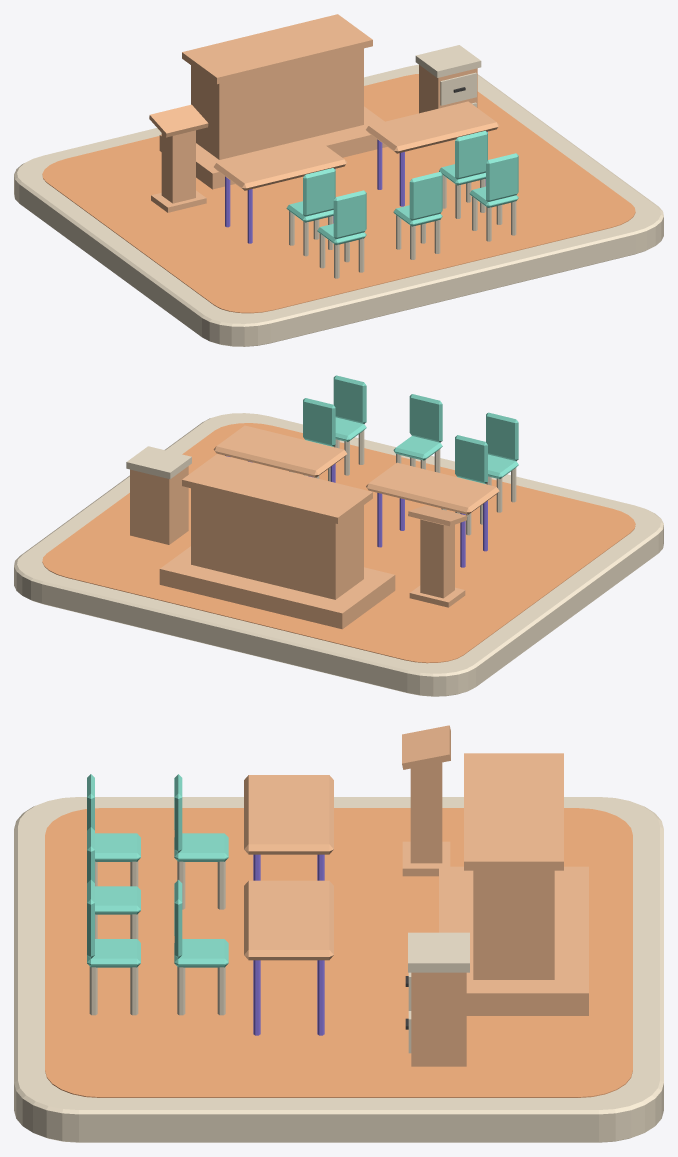
File: room.fbx
The picture shows the model from 3 angles, top to bottom: view 1: azimuth 30°, elevation 25°; view 2: azimuth 150°, elevation 25°; view 3: azimuth 270°, elevation 25°; orthographic projection. The views are drawn at different scales.
Parts seen in each view (by area): view 1: COM-02 Floor Surface, COM-01 Rounded Base Direct, Bench, Top, Rounded table top.001, Rounded table top, Platform, Body, Backrest.002, Backrest.003, Top.001, Backrest.004 (+6 smaller); view 2: COM-02 Floor Surface, COM-01 Rounded Base Direct, Bench, Platform, Top, Body.001, Rounded table top.001, Rounded table top, Body, Backrest.003, Backrest.004, Top.001 (+8 smaller); view 3: COM-02 Floor Surface, COM-01 Rounded Base Direct, Top, Platform, Bench, Rounded table top.001, Rounded table top, Body.001, Body, Top.001, Reading top, Seat.001 (+8 smaller).
Part boxes in pixels (x1,y1,x2,y2): COM-02 Floor Surface: (42, 74, 635, 313); COM-01 Rounded Base Direct: (14, 64, 663, 346); Bench: (191, 48, 363, 159); Top: (182, 14, 372, 84); Rounded table top.001: (366, 101, 499, 153); Rounded table top: (214, 138, 347, 190); Platform: (159, 106, 387, 189); Body: (161, 130, 195, 203); Backrest.002: (333, 190, 366, 239); Backrest.003: (409, 172, 442, 220); Top.001: (415, 45, 481, 77); Backrest.004: (486, 153, 518, 201); COM-02 Floor Surface: (42, 423, 635, 663); COM-01 Rounded Base Direct: (14, 413, 663, 696); Bench: (191, 488, 363, 599); Platform: (159, 546, 395, 629); Top: (182, 454, 372, 523); Body.001: (130, 466, 188, 544); Rounded table top.001: (213, 425, 346, 477); Rounded table top: (366, 462, 499, 514); Body: (420, 519, 454, 598); Backrest.003: (409, 394, 442, 442); Backrest.004: (333, 375, 366, 423); Top.001: (126, 446, 191, 479); COM-02 Floor Surface: (45, 808, 632, 1097); COM-01 Rounded Base Direct: (14, 797, 663, 1142); Top: (464, 753, 563, 870); Platform: (439, 866, 588, 1015); Bench: (473, 870, 554, 979); Rounded table top.001: (244, 880, 333, 960); Rounded table top: (244, 775, 333, 854); Body.001: (411, 972, 466, 1066); Body: (410, 762, 442, 863); Top.001: (408, 932, 469, 972); Reading top: (402, 725, 450, 769); Seat.001: (174, 939, 228, 967).
Bounding box in the file's own units: 600 × 158 × 520.
